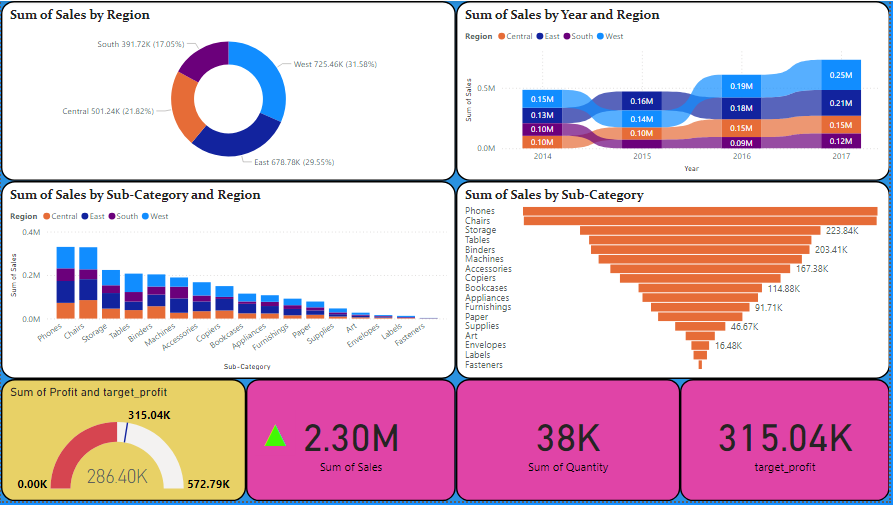

The dashboard page shown, as its layout file describes it:
{"tool":"powerbi","page":{"name":"Page 3","canvas":[1280,720],"ordinal":1},"visuals":[{"type":"donutChart","fields":{"Category":["Sheet1.Region"],"Y":["Sum(Sheet1.Sales)"]},"box":[0,0,655.2,259.2],"z":0},{"type":"funnel","fields":{"Category":["Sheet1.Sub-Category"],"Y":["Sum(Sheet1.Sales)"]},"box":[655.2,259.2,625,285.1],"z":1000},{"type":"ribbonChart","fields":{"Category":["Sheet1.Order Date.Variation.Date Hierarchy.Year"],"Y":["Sum(Sheet1.Sales)"],"Series":["Sheet1.Region"]},"box":[655.2,0,625,259.2],"z":2000},{"type":"columnChart","fields":{"Category":["Sheet1.Sub-Category"],"Y":["Sum(Sheet1.Sales)"],"Series":["Sheet1.Region"]},"box":[0,259.2,655.2,285.1],"z":3000},{"type":"gauge","fields":{"Y":["Sum(Sheet1.Profit)"],"TargetValue":["Sheet1.target_profit"]},"box":[0,544.3,352.8,175.7],"z":3001},{"type":"card","fields":{"Values":["Sum(Sheet1.Sales)"]},"box":[352.8,544.3,302.4,175.7],"z":3002},{"type":"card","fields":{"Values":["Sum(Sheet1.Quantity)"]},"box":[655.2,544.3,322.6,175.7],"z":3003},{"type":"card","fields":{"Values":["Sheet1.trend"]},"box":[365.8,589,59,66.2],"z":3004},{"type":"card","fields":{"Values":["Sheet1.target_profit"]},"box":[977.8,544.3,302.4,175.7],"z":3005}]}

Visuals, with their boxes in screenshot pixels (x1, y1, x2, y2), scaled from the page's 1280x720 canvas onto the 893x505 screenshot:
donutChart - Sheet1.Region x Sum(Sheet1.Sales): <box>0,0,457,182</box>
funnel - Sheet1.Sub-Category x Sum(Sheet1.Sales): <box>457,182,892,382</box>
ribbonChart - Sheet1.Order Date.Variation.Date Hierarchy.Year x Sum(Sheet1.Sales): <box>457,0,892,182</box>
columnChart - Sheet1.Sub-Category x Sum(Sheet1.Sales): <box>0,182,457,382</box>
gauge - Sum(Sheet1.Profit) x Sheet1.target_profit: <box>0,382,246,504</box>
card - Sum(Sheet1.Sales): <box>246,382,457,504</box>
card - Sum(Sheet1.Quantity): <box>457,382,682,504</box>
card - Sheet1.trend: <box>255,413,296,460</box>
card - Sheet1.target_profit: <box>682,382,892,504</box>
